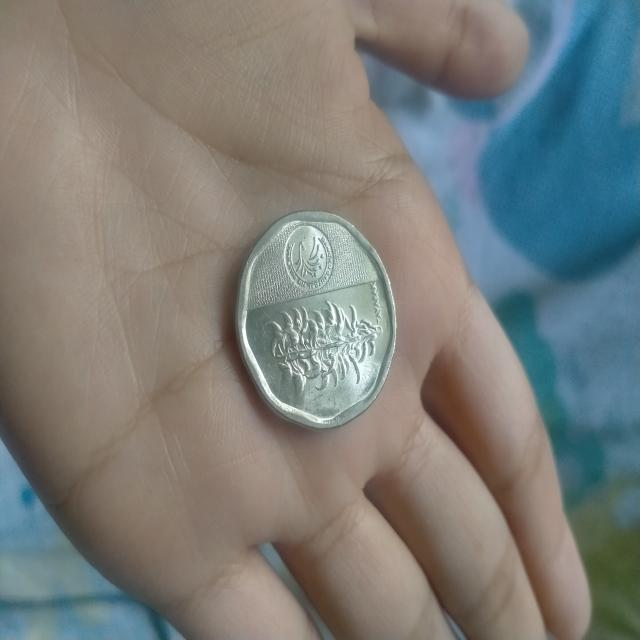5_New_Back: (266, 297, 384, 410)
